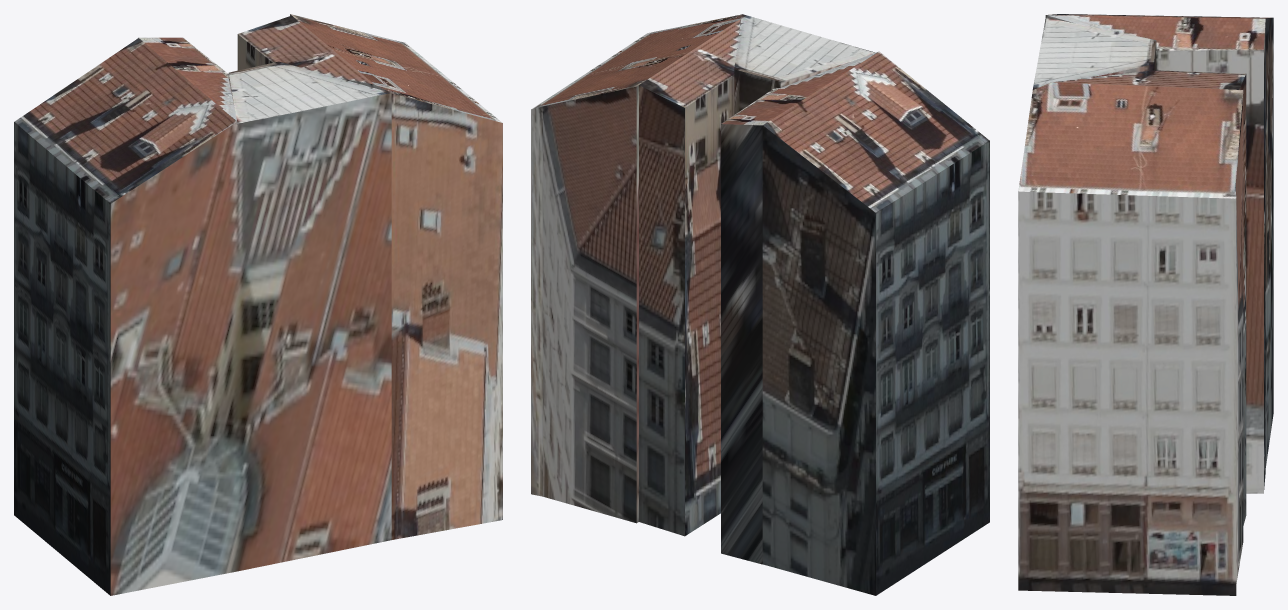
The picture shows the model from 3 angles, left to right: view 1: azimuth 30°, elevation 25°; view 2: azimuth 150°, elevation 25°; view 3: azimuth 270°, elevation 25°; orthographic projection. The views are drawn at different scales.
Visible parts, largest first — view 1: Z_UP; view 2: Z_UP; view 3: Z_UP.
Part boxes in pixels (x1,y1,x2,y2): Z_UP: [14, 14, 502, 595]; Z_UP: [531, 14, 989, 595]; Z_UP: [1018, 14, 1273, 595].
Size of the model in its own units: 22.85 by 25.72 by 13.12.
Materials: 2 (1 with a texture image).
